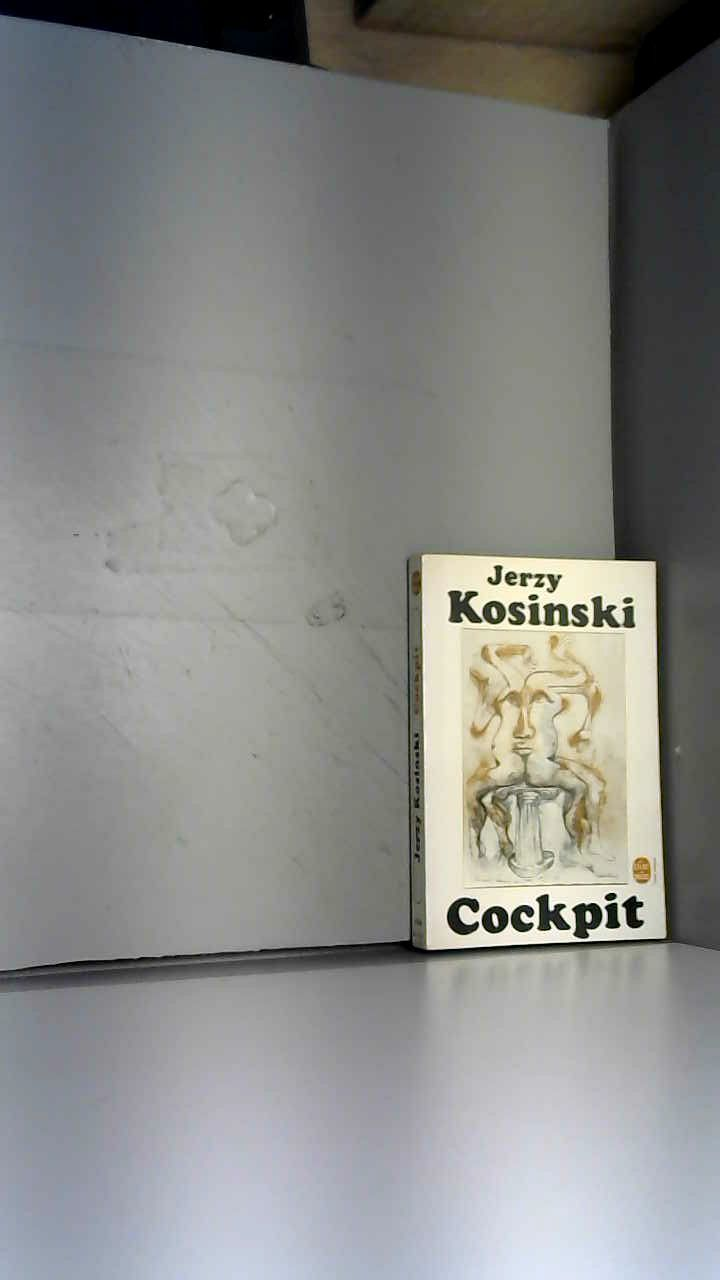book: (374, 518, 701, 992)
